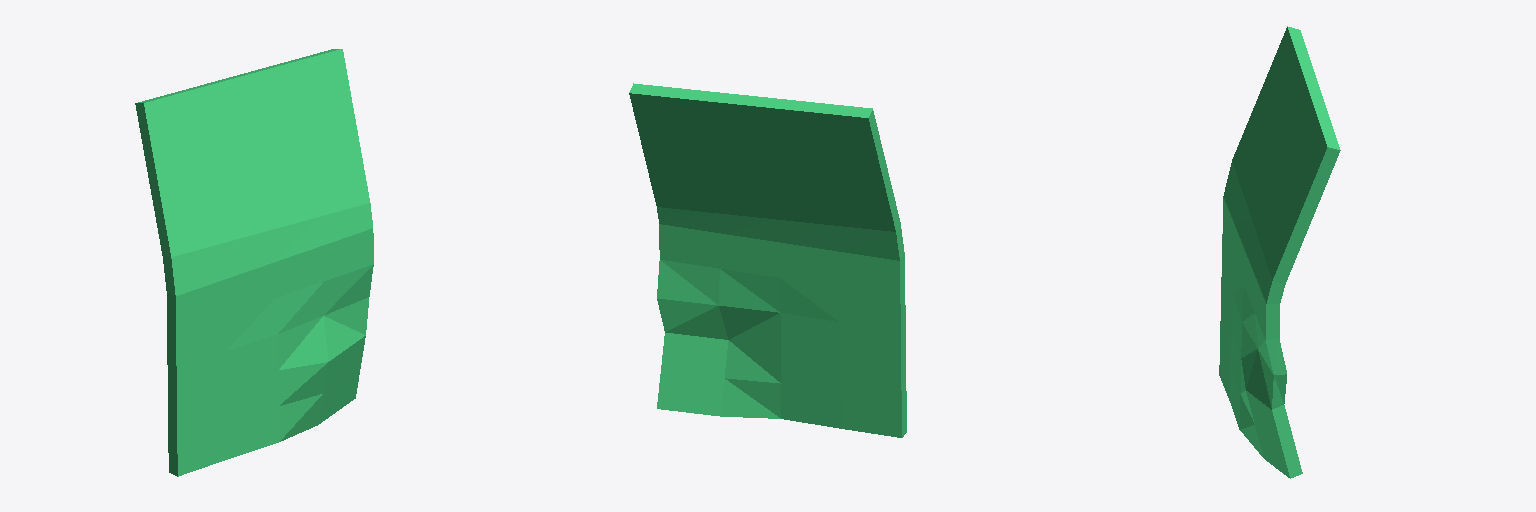
File: pocket1.obj
The picture shows the model from 3 angles: view 1: azimuth 30°, elevation 25°; view 2: azimuth 150°, elevation 25°; view 3: azimuth 270°, elevation 25°; orthographic projection.
Parts seen in each view (by area): view 1: Box001; view 2: Box001; view 3: Box001.
Boxes of the visible parts, x1,y1,x2,y2 form: Box001: [135, 49, 373, 476]; Box001: [629, 83, 906, 437]; Box001: [1219, 26, 1340, 478].
Size of the model in its own units: 62.3 by 95.03 by 29.61.